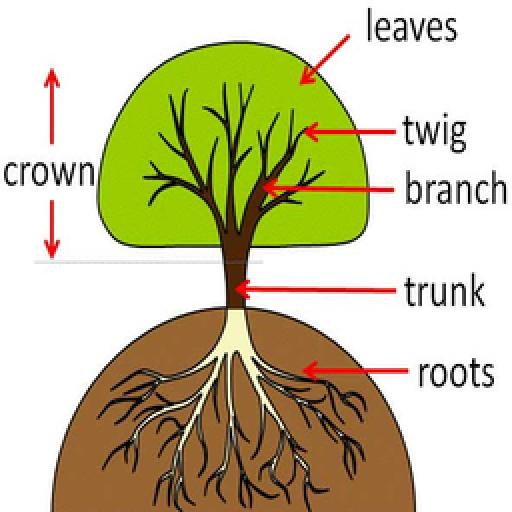trees: (96, 32, 372, 309)
